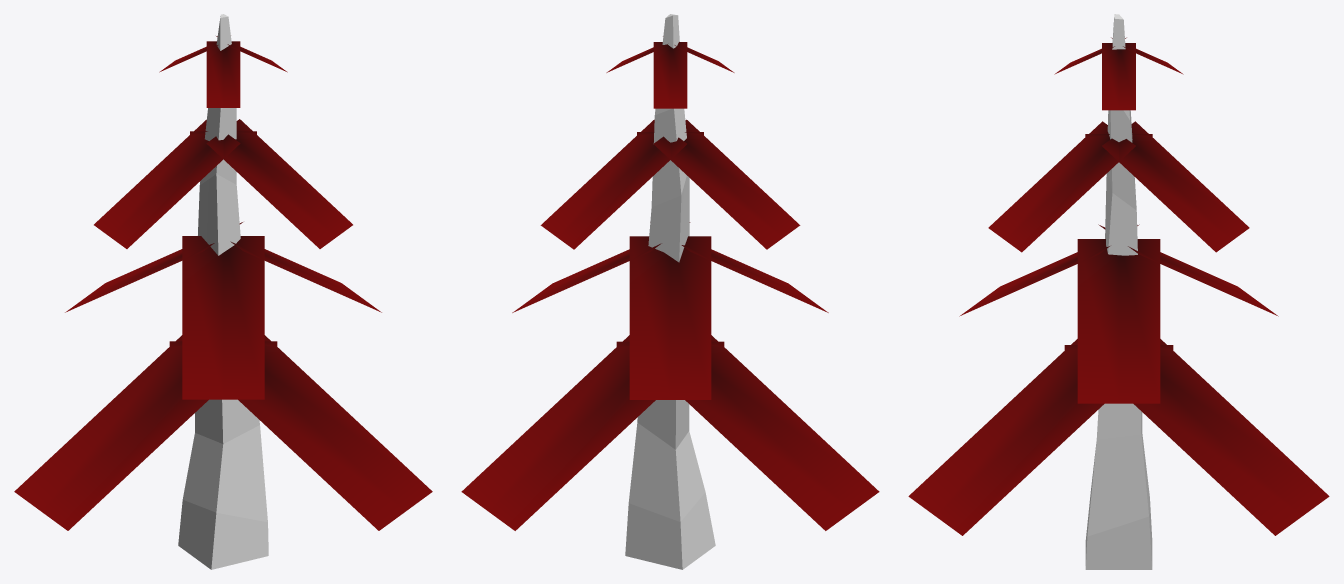
File: PineTree02_UV.fbx
3 views of the same model, side by side, from view 1: azimuth 30°, elevation 25°; view 2: azimuth 150°, elevation 25°; view 3: azimuth 270°, elevation 25° (orthographic).
Visible parts, largest first — view 1: LEAF, TRUNK; view 2: LEAF, TRUNK; view 3: LEAF, TRUNK.
Boxes of the visible parts, x1=… form: LEAF: x1=14, y1=36, x2=432, y2=530; TRUNK: x1=178, y1=14, x2=268, y2=569; LEAF: x1=461, y1=42, x2=879, y2=530; TRUNK: x1=625, y1=14, x2=715, y2=569; LEAF: x1=908, y1=37, x2=1329, y2=535; TRUNK: x1=1085, y1=14, x2=1152, y2=569.
Bounding box in the file's own units: 1.88 × 3 × 2.12.
